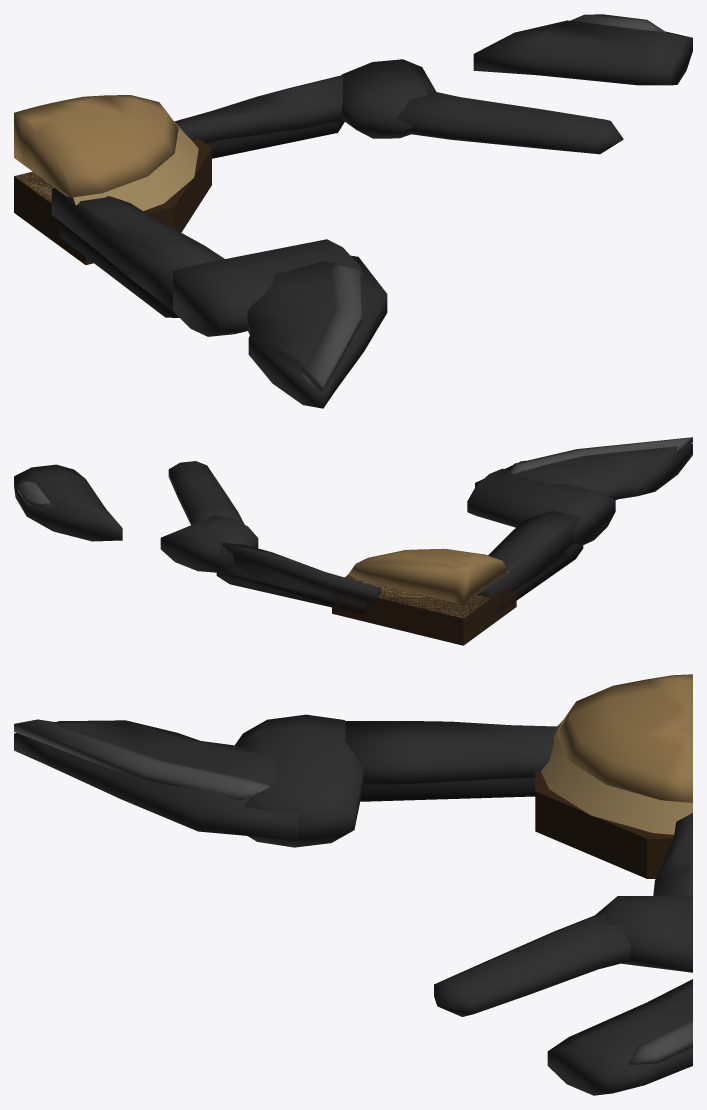
Rendered from newsh-hash-41-f7.glb.
3 renders of one model, top to bottom at view 1: azimuth 30°, elevation 25°; view 2: azimuth 150°, elevation 25°; view 3: azimuth 270°, elevation 25°, orthographic. The views are drawn at different scales.
Visible parts, largest first — view 1: newsh-hash-41-f7; view 2: newsh-hash-41-f7; view 3: newsh-hash-41-f7.
Part boxes in pixels (<box>): newsh-hash-41-f7: <box>14,14,692,408</box>; newsh-hash-41-f7: <box>14,437,692,645</box>; newsh-hash-41-f7: <box>14,674,692,1095</box>.
Size of the model in its own units: 1.01 by 0.1514 by 0.8425.
